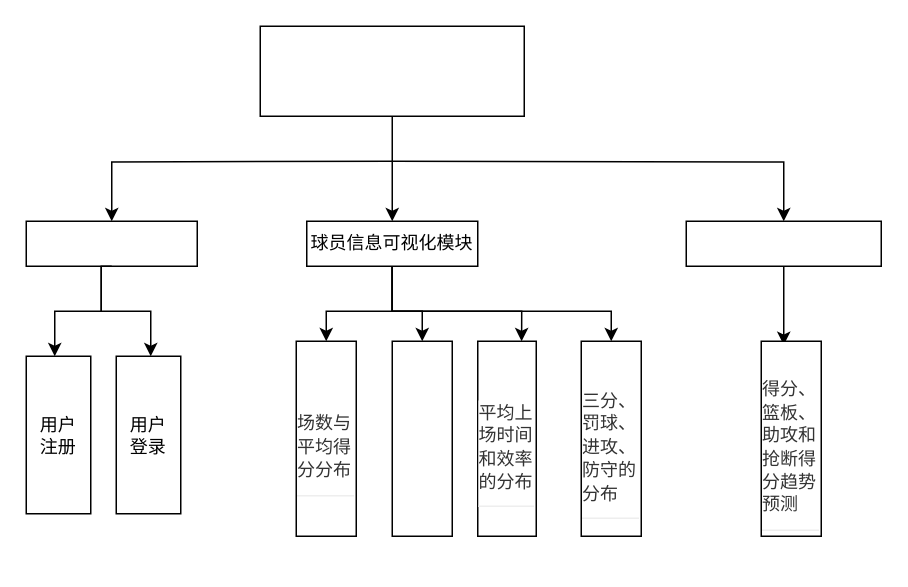
Image size: 908x587. Some labels were removed from this diagram. The shapes that lost their labels are listed below. From the top down, each one's centre as x and y in pixels, then its label:
point 391,70: 基于Python的NBA球员数据可视化分析系统
point 111,243: 用户管理模块
point 783,243: 球员未来表现预测模块
point 421,438: 场均篮板、助攻、抢断和盖帽的得分分布
